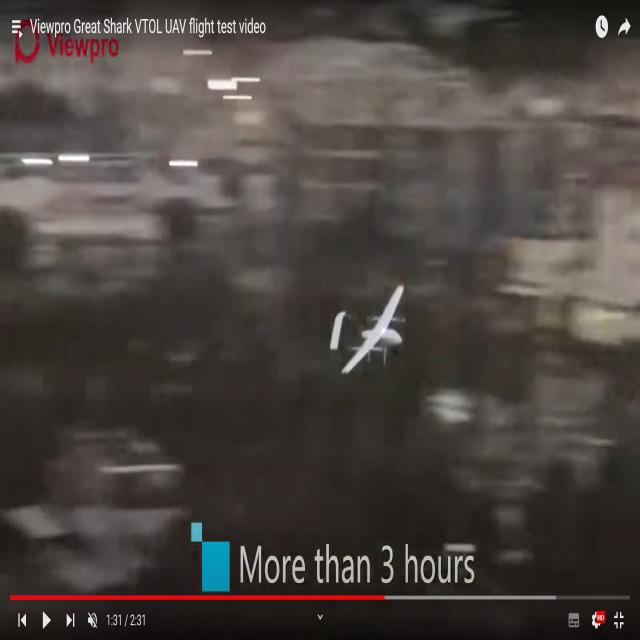iha: (365, 308, 370, 337)
